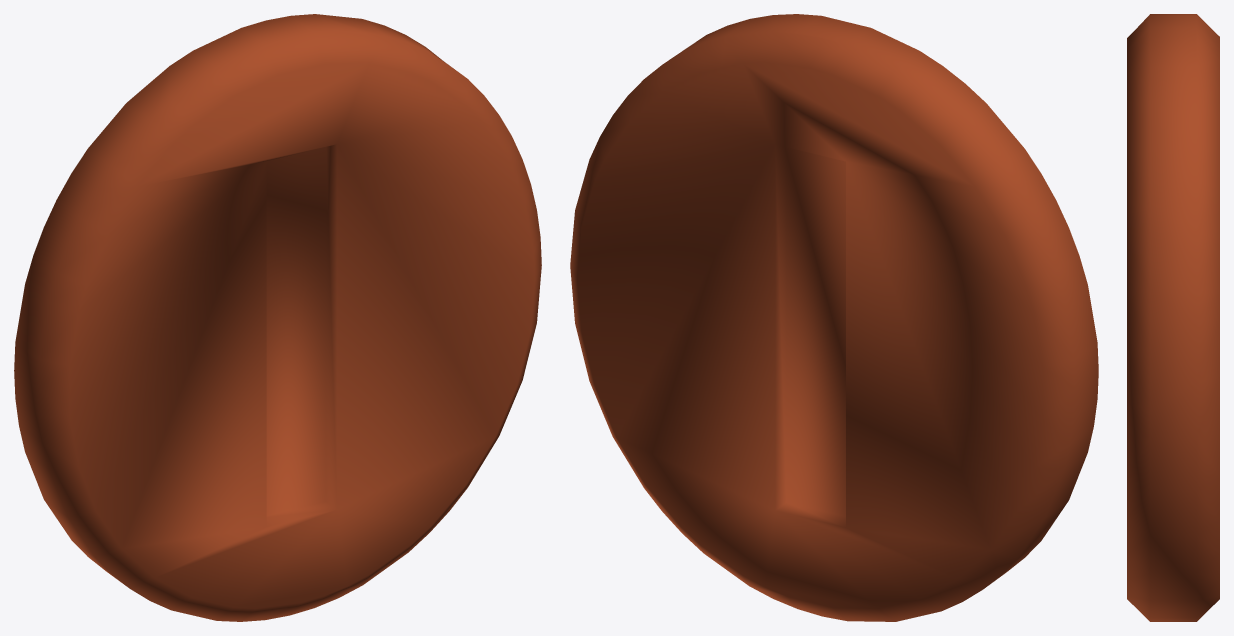
File: copper_coin.glb
3 renders of one model, left to right at view 1: azimuth 30°, elevation 25°; view 2: azimuth 150°, elevation 25°; view 3: azimuth 270°, elevation 25°, orthographic. The views are drawn at different scales.
Visible parts, largest first — view 1: Cylinder; view 2: Cylinder; view 3: Cylinder.
Boxes of the visible parts, <box> form: Cylinder: <box>14,14,541,621</box>; Cylinder: <box>570,14,1098,621</box>; Cylinder: <box>1127,14,1219,621</box>.
Bounding box in the file's own units: 1.83 × 2 × 0.3.
